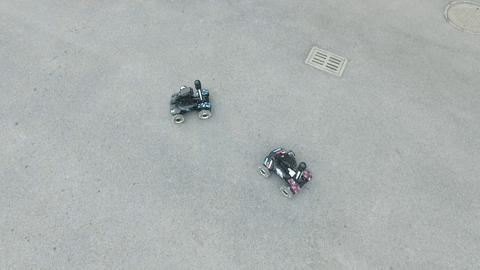chariot: (258, 142, 316, 201), (166, 79, 215, 125)
